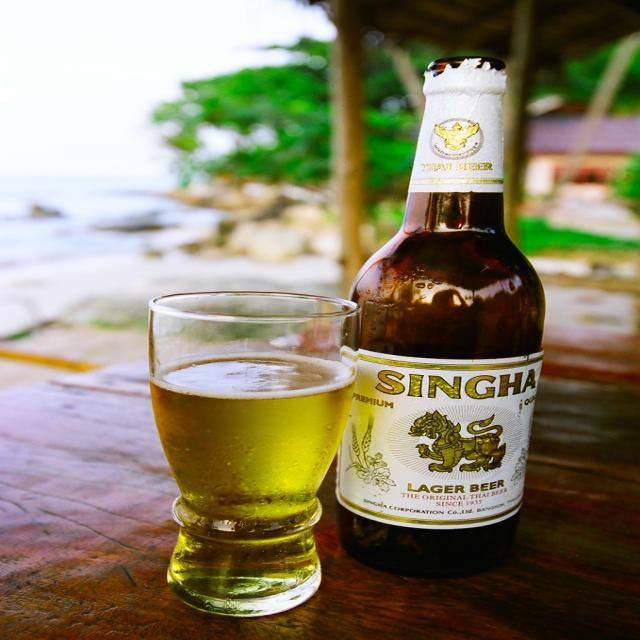singha: (339, 355, 544, 526)
